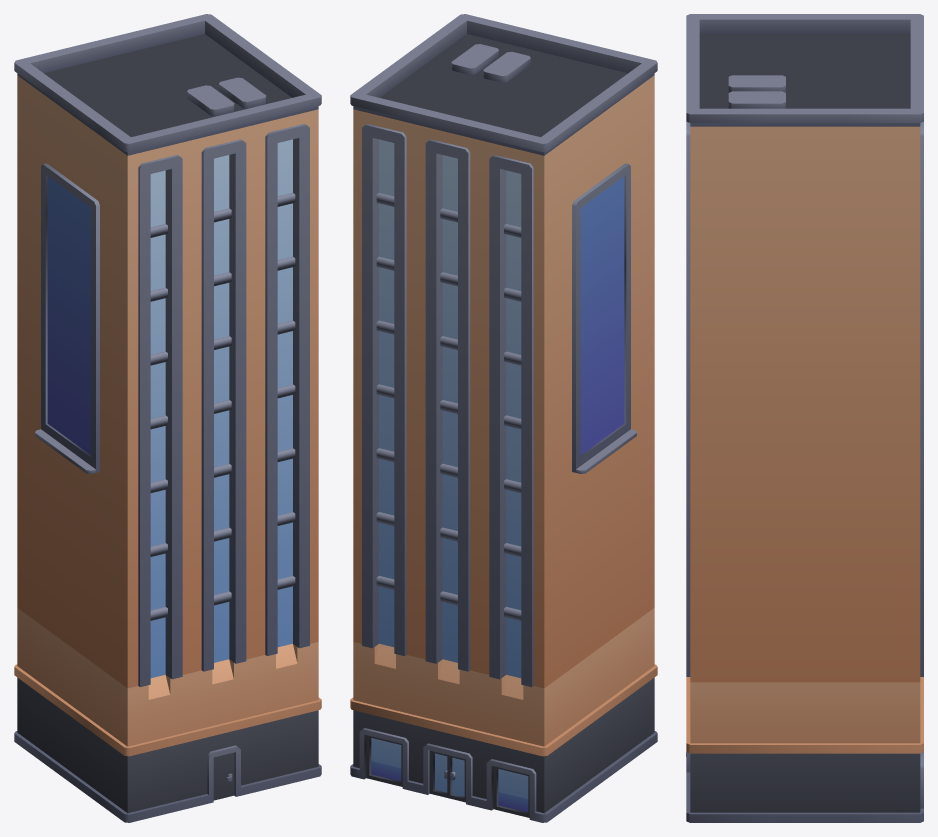
The model's file is building-skyscraper-e.glb.
3 views of the same model, side by side, from view 1: azimuth 30°, elevation 25°; view 2: azimuth 150°, elevation 25°; view 3: azimuth 270°, elevation 25° (orthographic). The views are drawn at different scales.
Parts seen in each view (by area): view 1: building-skyscraper-e; view 2: building-skyscraper-e; view 3: building-skyscraper-e.
Part boxes in pixels (<box>): building-skyscraper-e: <box>14,14,321,822</box>; building-skyscraper-e: <box>350,14,657,822</box>; building-skyscraper-e: <box>686,14,923,822</box>.
Size of the model in its own units: 1.29 by 4.08 by 1.24.
1 material, 1 textured.
